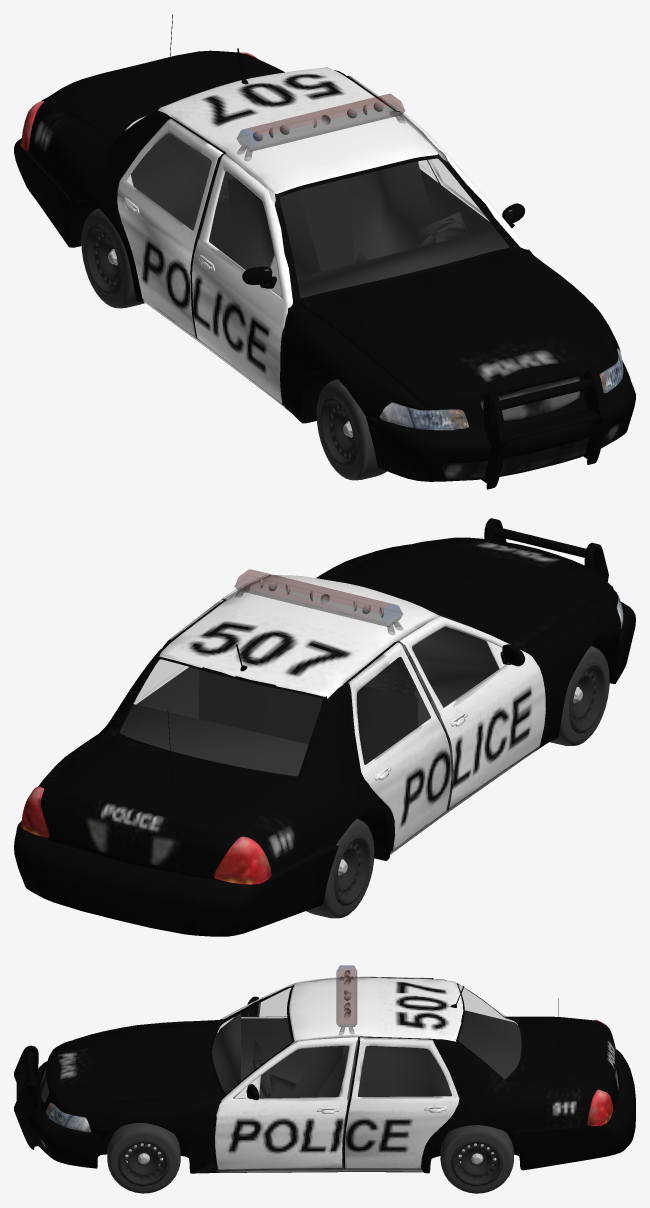
File: police-car.glb
The picture shows the model from 3 angles, top to bottom: view 1: azimuth 30°, elevation 25°; view 2: azimuth 150°, elevation 25°; view 3: azimuth 270°, elevation 25°; orthographic projection. The views are drawn at different scales.
Parts seen in each view (by area): view 1: CrownVic.Body_0, windows glass_0, interior_0, CrownVic.Wheel.Ft.R_0, Roof light bar_0, CrownVic.Wheel.Bk.R_0; view 2: CrownVic.Body_0, windows glass_0, interior_0, Roof light bar_0, CrownVic.Wheel.Bk.R_0, CrownVic.Wheel.Ft.R_0; view 3: CrownVic.Body_0, windows glass_0, interior_0, CrownVic.Wheel.Ft.L_0, CrownVic.Wheel.Bk.L_0, Roof light bar_0.
Boxes of the visible parts, x1,y1,x2,y2 form: CrownVic.Body_0: [14, 14, 635, 489]; windows glass_0: [126, 110, 508, 297]; interior_0: [124, 128, 509, 298]; CrownVic.Wheel.Ft.R_0: [316, 379, 386, 480]; Roof light bar_0: [236, 94, 405, 160]; CrownVic.Wheel.Bk.R_0: [81, 208, 144, 308]; CrownVic.Body_0: [14, 518, 635, 936]; windows glass_0: [120, 608, 498, 775]; interior_0: [119, 627, 498, 776]; Roof light bar_0: [234, 569, 403, 634]; CrownVic.Wheel.Bk.R_0: [306, 818, 374, 918]; CrownVic.Wheel.Ft.R_0: [550, 645, 609, 745]; CrownVic.Body_0: [14, 976, 635, 1173]; windows glass_0: [212, 985, 521, 1098]; interior_0: [212, 1010, 521, 1098]; CrownVic.Wheel.Ft.L_0: [107, 1123, 180, 1193]; CrownVic.Wheel.Bk.L_0: [440, 1125, 513, 1193]; Roof light bar_0: [336, 965, 357, 1034].
Size of the model in its own units: 1.94 by 1.55 by 5.25.
7 materials, 5 textured.
